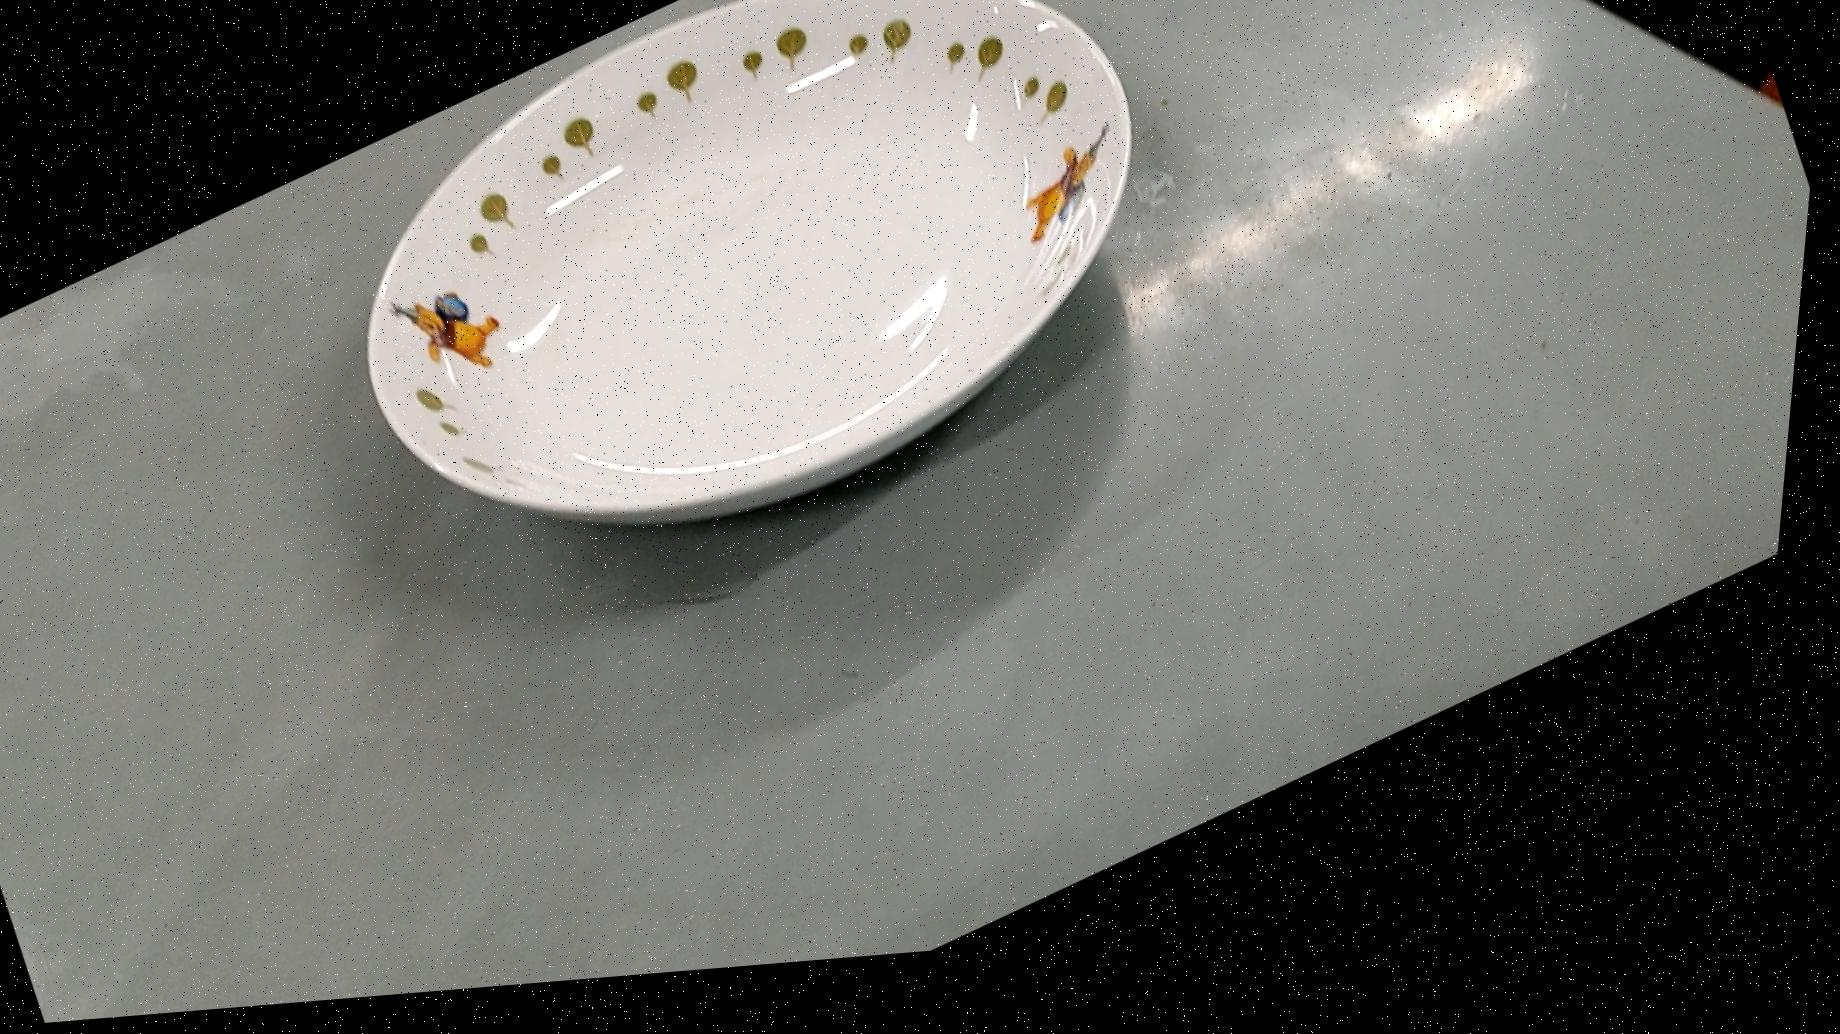plate: (277, 0, 1230, 676)
